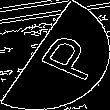P_NW: (16, 27, 94, 83)
